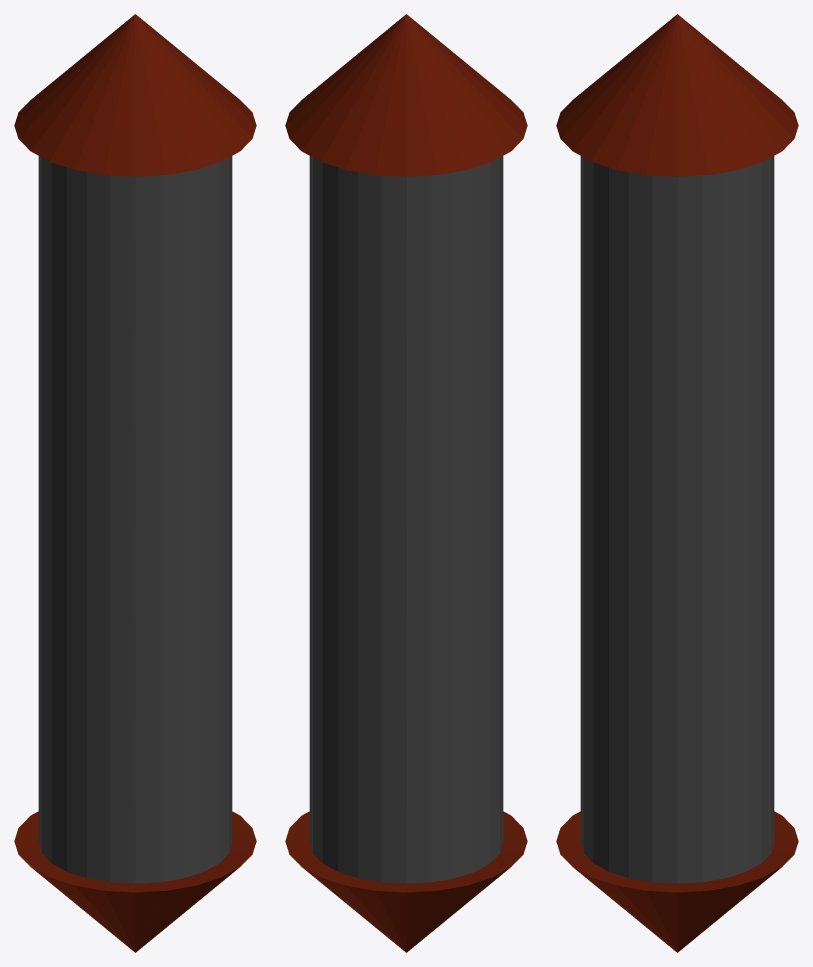
Rendered from castle.glb.
3 renders of one model, left to right at view 1: azimuth 30°, elevation 25°; view 2: azimuth 150°, elevation 25°; view 3: azimuth 270°, elevation 25°, orthographic.
Parts seen in each view (by area): view 1: castle; view 2: castle; view 3: castle.
Part boxes in pixels (box(x1,y1,x2,y2)): castle: box(14, 14, 256, 952); castle: box(285, 14, 527, 952); castle: box(556, 14, 798, 952).
Bounding box in the file's own units: 78.24 × 335 × 78.24.
